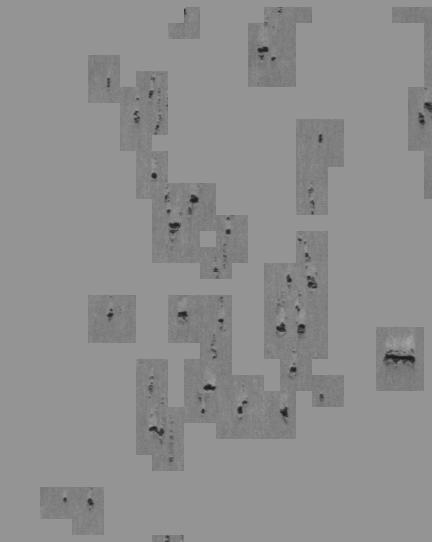oxl: (35, 10, 397, 532)
